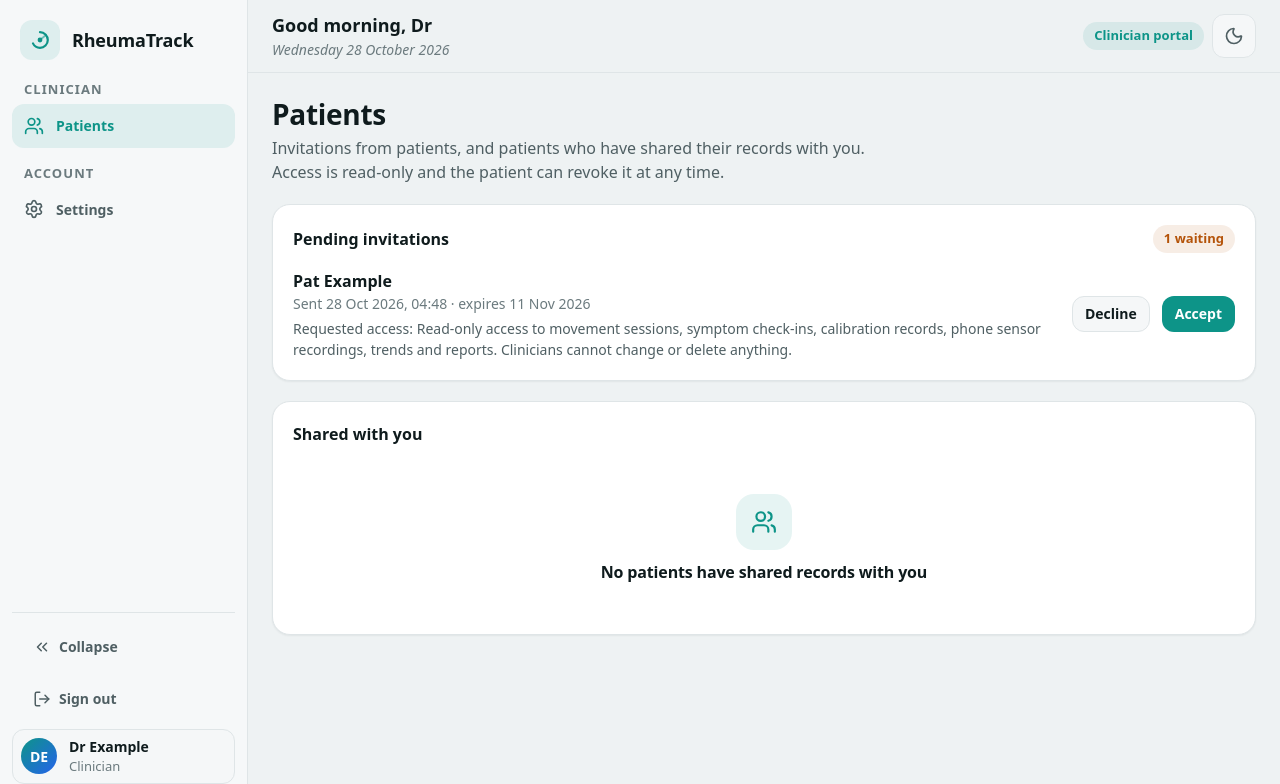
Test case: clinician receives the invitation › the invited clinician sees it — even with an unverified email — and accepts
Expected: the text "Pat Example" is shown, [293,270,392,292]
Expected: the text "Requested access: Read-only access" is shown, [293,318,1060,360]
What coordinates should you click on to do the following:
click the button "Accept"
I would click on:
 (1198, 314)
Its box is [1162,296,1235,332].
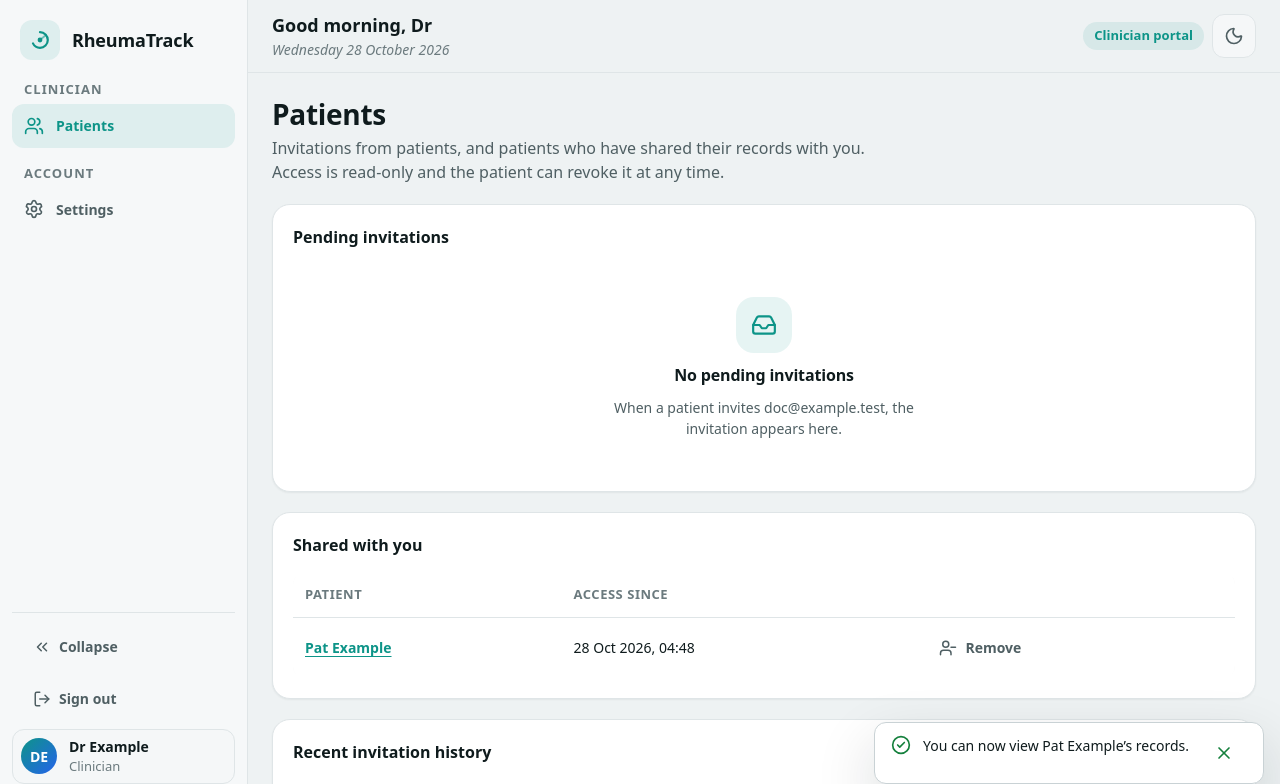
Now the link "Pat Example" is shown, box [305,638,392,657]
